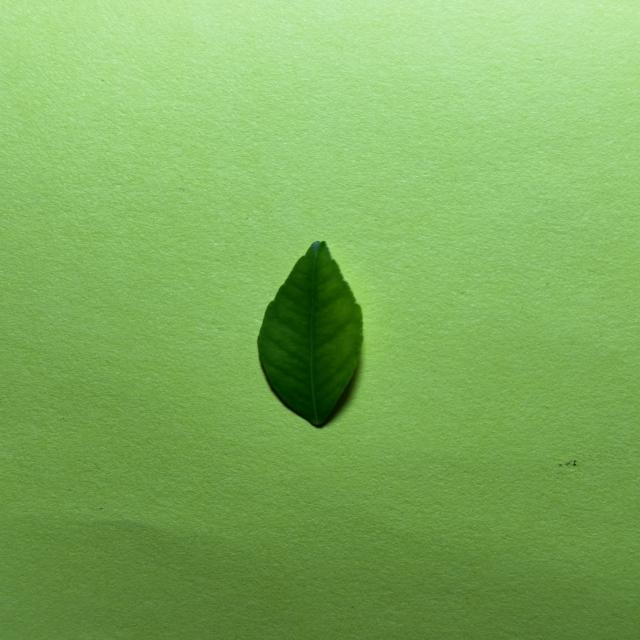greening: (258, 242, 362, 424)
